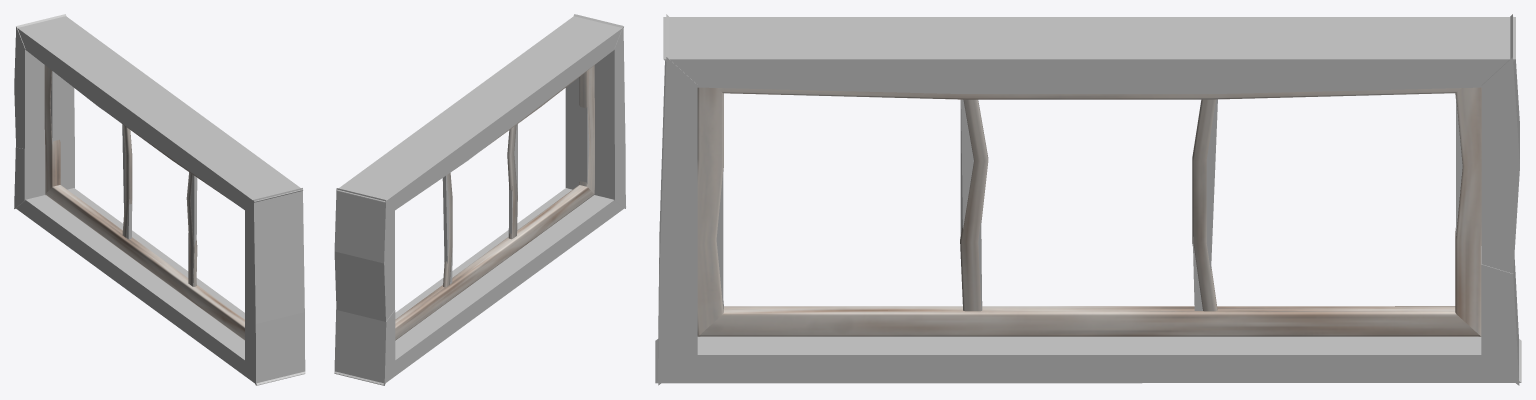
File: SM_PropWindow01TypeD_2_2.fbx
3 views of the same model, side by side, from view 1: azimuth 30°, elevation 25°; view 2: azimuth 150°, elevation 25°; view 3: azimuth 270°, elevation 25° (orthographic). The views are drawn at different scales.
Visible parts, largest first — view 1: SM_PropWindow01TypeD_2_2_ConvexHulls, SM_PropWindow01TypeD_2_2; view 2: SM_PropWindow01TypeD_2_2_ConvexHulls, SM_PropWindow01TypeD_2_2; view 3: SM_PropWindow01TypeD_2_2_ConvexHulls, SM_PropWindow01TypeD_2_2.
Part boxes in pixels (bbox=[...]): SM_PropWindow01TypeD_2_2_ConvexHulls: bbox=[14, 14, 305, 385]; SM_PropWindow01TypeD_2_2: bbox=[44, 65, 244, 340]; SM_PropWindow01TypeD_2_2_ConvexHulls: bbox=[334, 14, 625, 385]; SM_PropWindow01TypeD_2_2: bbox=[395, 61, 599, 340]; SM_PropWindow01TypeD_2_2_ConvexHulls: bbox=[655, 14, 1521, 385]; SM_PropWindow01TypeD_2_2: bbox=[697, 87, 1481, 336].
Bounding box in the file's own units: 31.62 × 266 × 111.
Materials: 2 (1 with a texture image).
